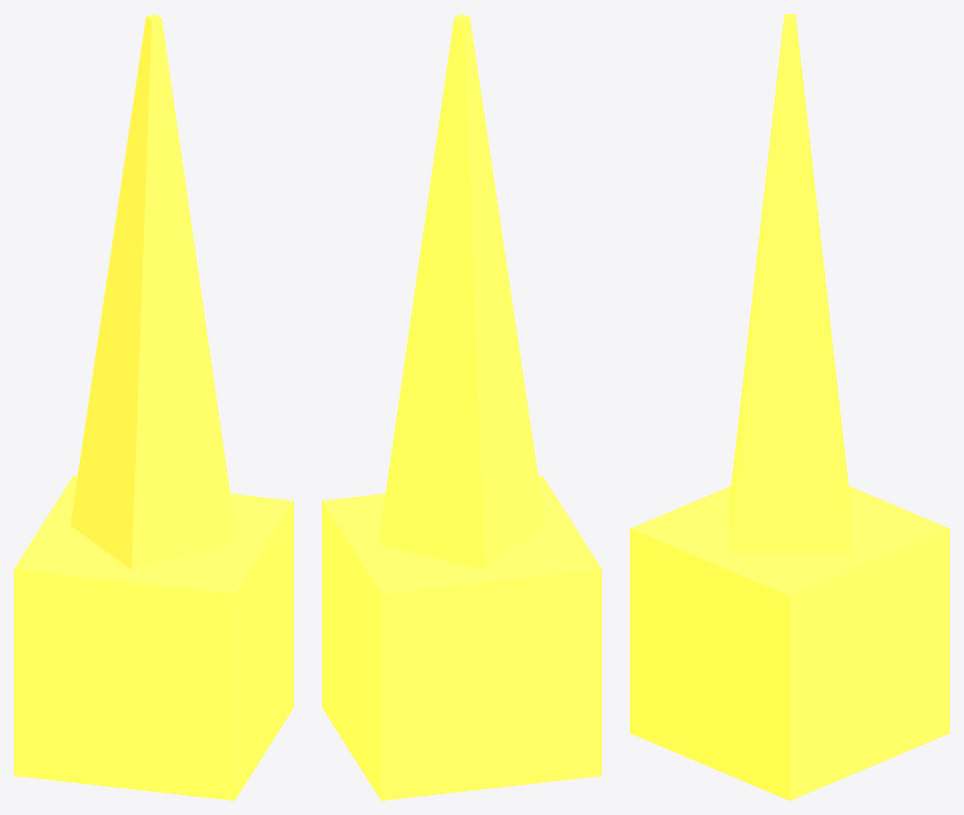
The model's file is RC_VFX_ProjectileGold.glb.
The picture shows the model from 3 angles, left to right: view 1: azimuth 30°, elevation 25°; view 2: azimuth 150°, elevation 25°; view 3: azimuth 270°, elevation 25°; orthographic projection.
Visible parts, largest first — view 1: RC_VFX_ProjectileGold_Core, RC_VFX_ProjectileGold_Trail; view 2: RC_VFX_ProjectileGold_Core, RC_VFX_ProjectileGold_Trail; view 3: RC_VFX_ProjectileGold_Core, RC_VFX_ProjectileGold_Trail.
Part boxes in pixels (box(x1,y1,x2,y2)): RC_VFX_ProjectileGold_Core: box(14, 475, 293, 800); RC_VFX_ProjectileGold_Trail: box(70, 14, 237, 570); RC_VFX_ProjectileGold_Core: box(322, 475, 601, 800); RC_VFX_ProjectileGold_Trail: box(378, 14, 545, 570); RC_VFX_ProjectileGold_Core: box(630, 486, 949, 800); RC_VFX_ProjectileGold_Trail: box(729, 14, 850, 554).
Size of the model in its own units: 0.198 by 0.49 by 0.198.
